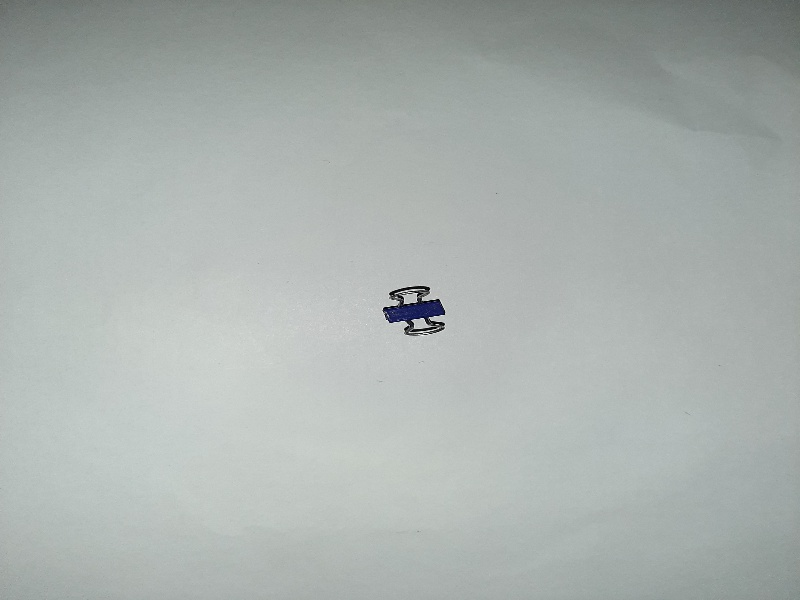Small Paperclip: (377, 277, 454, 342)
